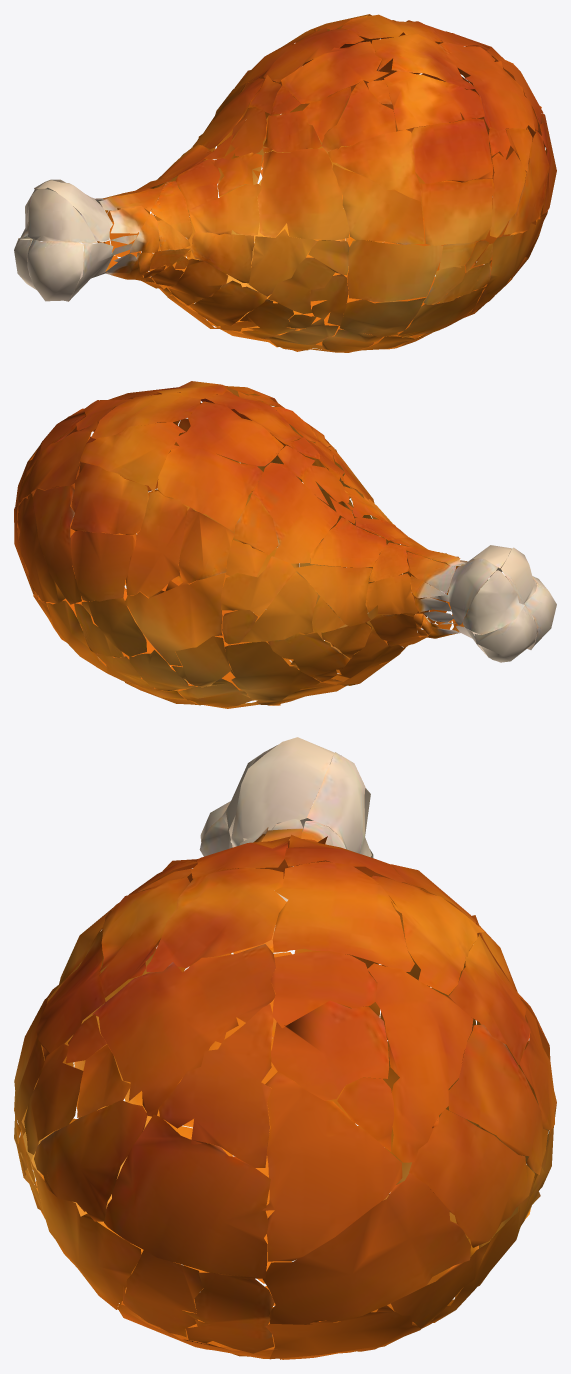
Rendered from chicken_leg.glb.
The picture shows the model from 3 angles, top to bottom: view 1: azimuth 30°, elevation 25°; view 2: azimuth 150°, elevation 25°; view 3: azimuth 270°, elevation 25°; orthographic projection. The views are drawn at different scales.
Parts seen in each view (by area): view 1: chicken_leg; view 2: chicken_leg; view 3: chicken_leg.
Part boxes in pixels (x1,y1,x2,y2): chicken_leg: (14,14,556,352); chicken_leg: (14,381,556,708); chicken_leg: (14,737,556,1359).
Bounding box in the file's own units: 0.278 × 0.1529 × 0.1568.
1 material, 1 textured.
